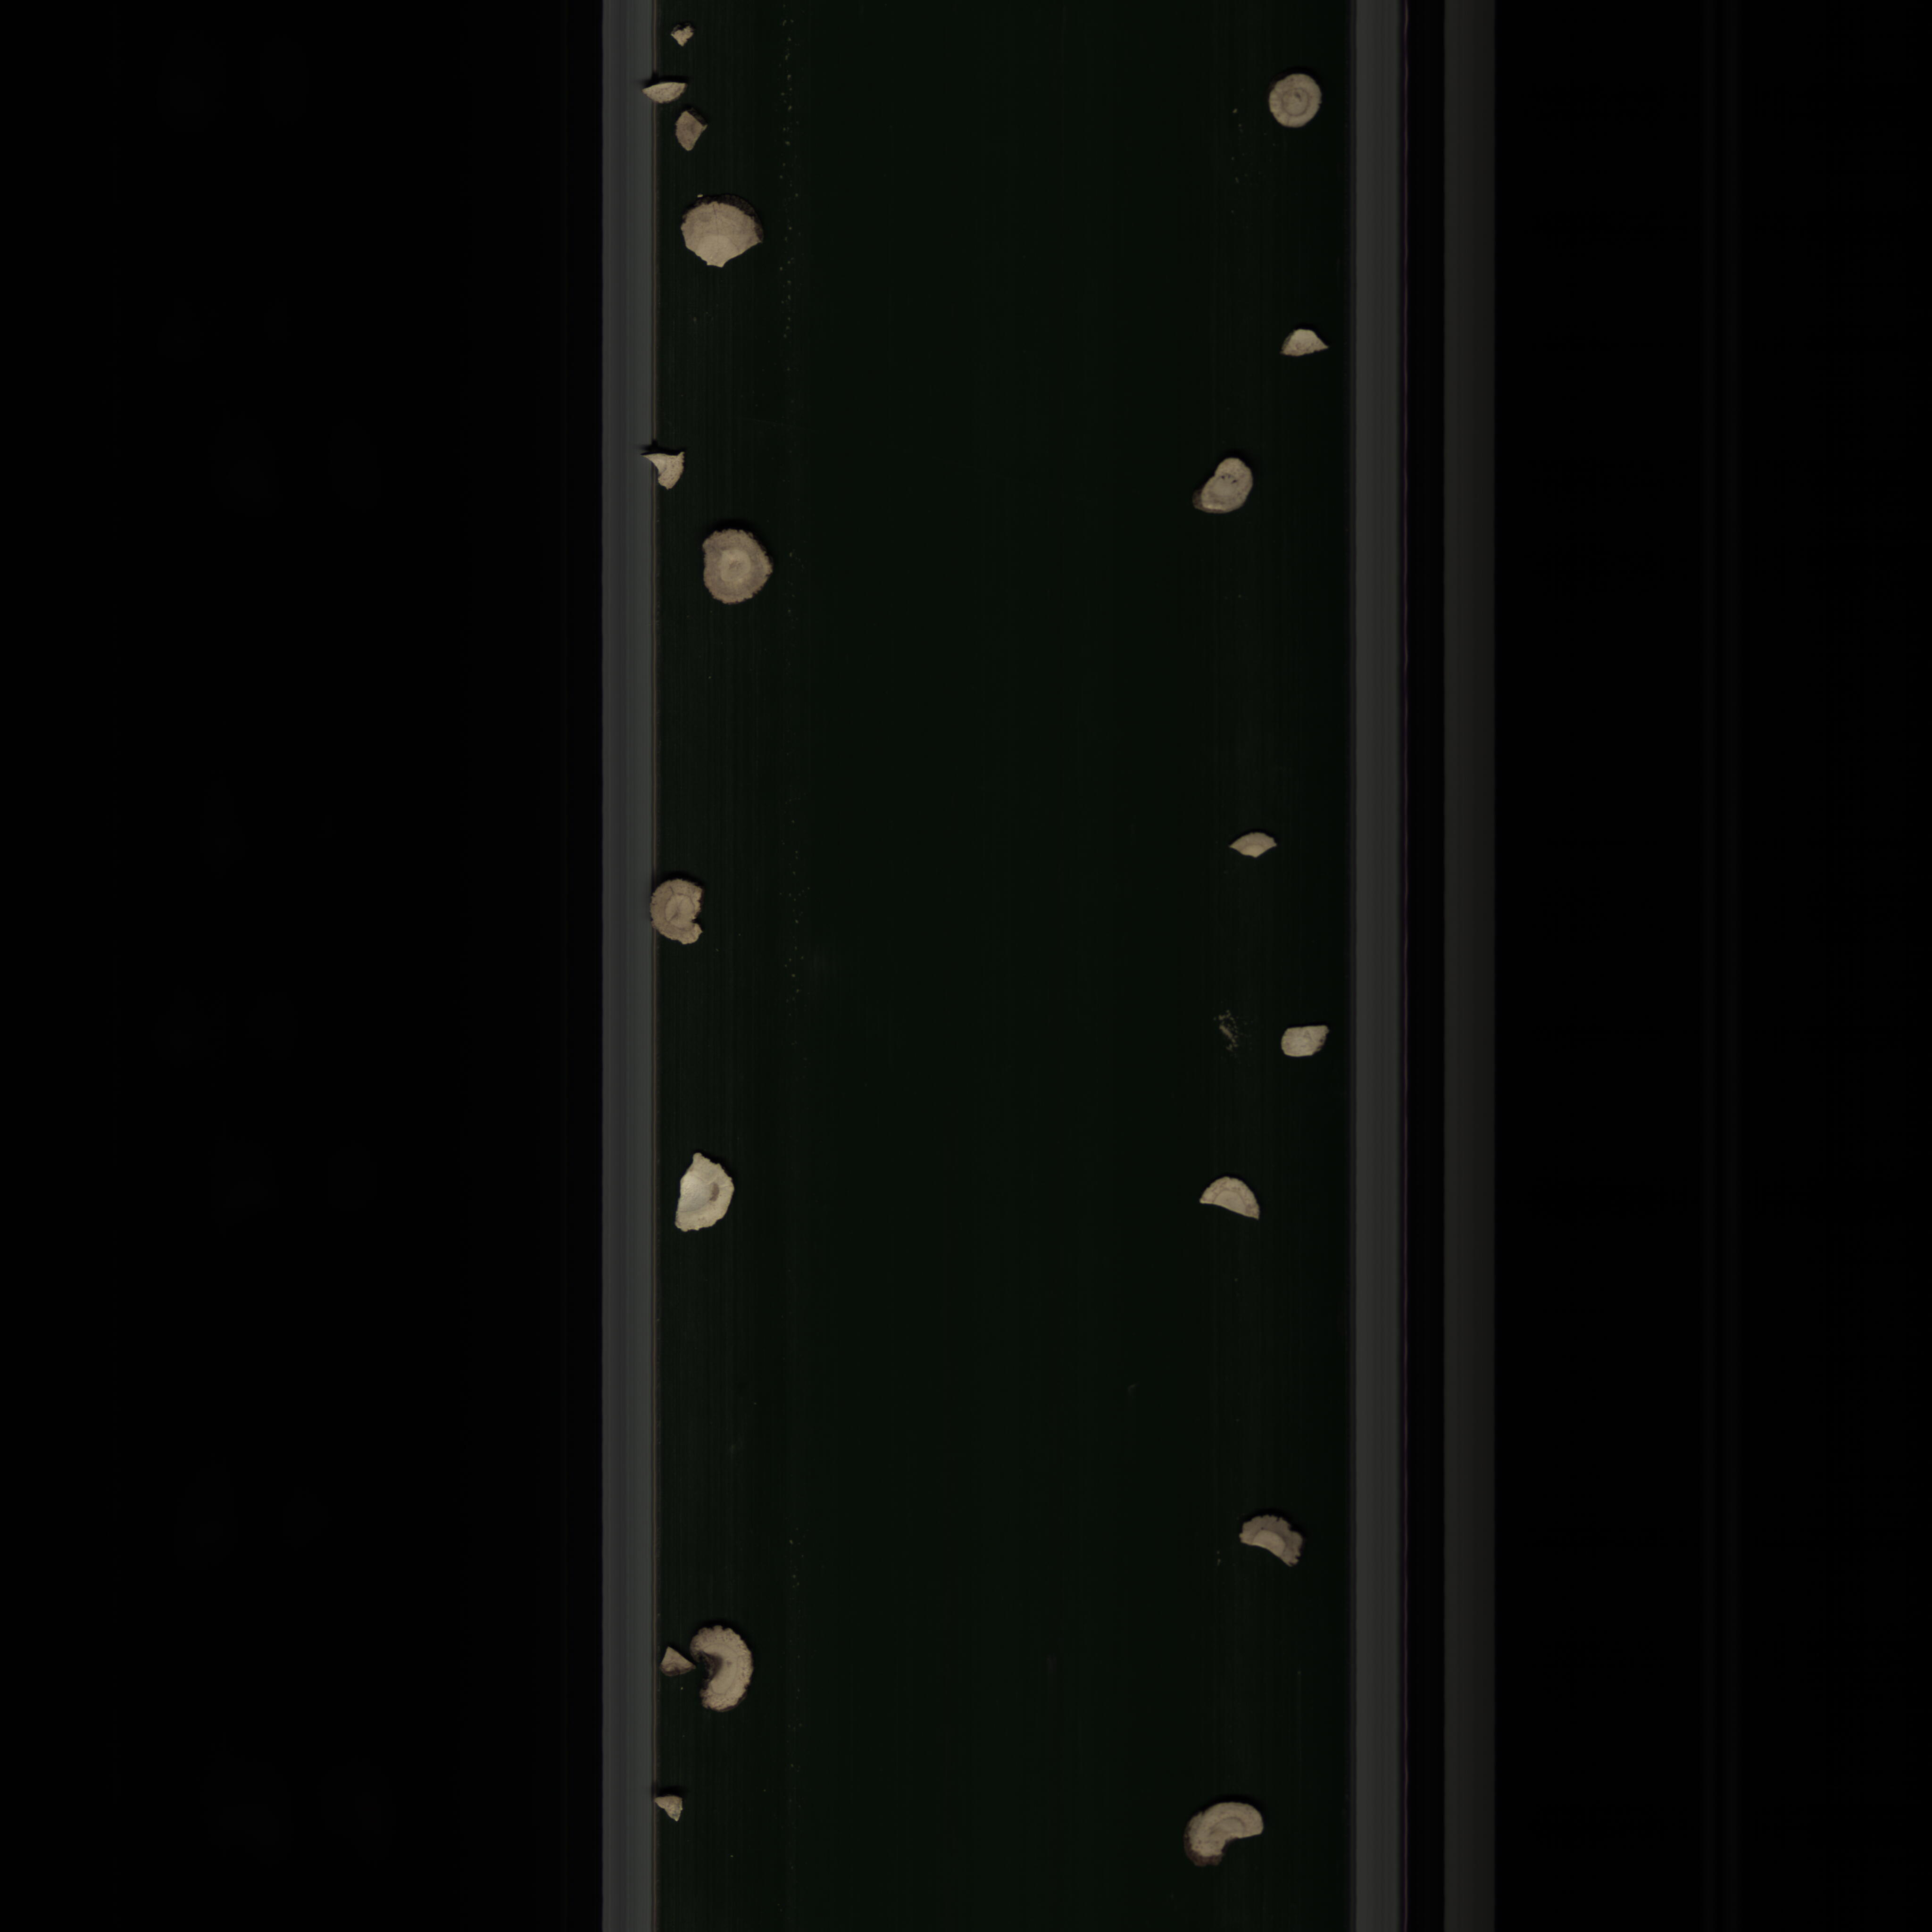debris: (656, 1614, 761, 1729), (669, 1148, 752, 1244), (674, 198, 771, 280), (1212, 1504, 1316, 1578), (1177, 1796, 1277, 1870), (1185, 1166, 1277, 1228), (644, 876, 713, 950), (639, 441, 704, 495), (1226, 821, 1283, 865), (1274, 1021, 1329, 1065), (640, 1792, 704, 1826), (1283, 322, 1330, 364), (672, 108, 715, 152), (648, 73, 702, 104)
hole: (1187, 455, 1263, 524)
moldy: (1263, 73, 1334, 138)
